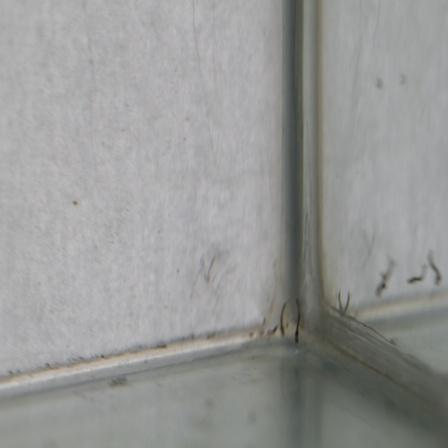Jentik-Nyamuk: (291, 293, 304, 346), (277, 299, 289, 341)
